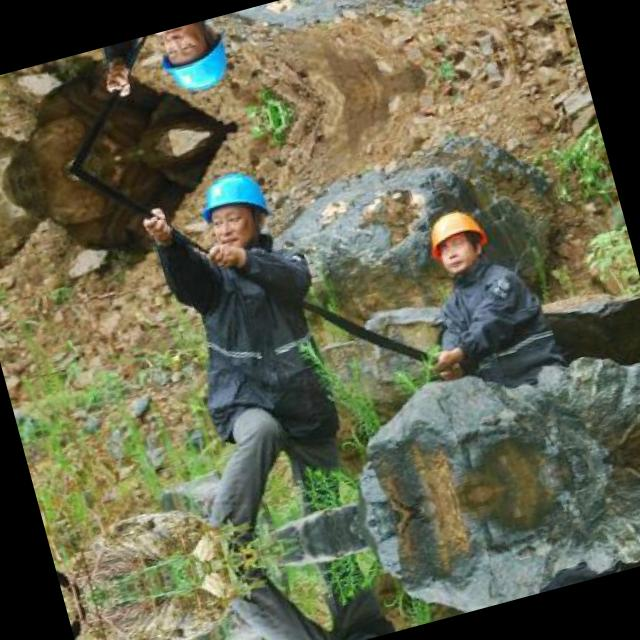helmet: (183, 156, 286, 263), (145, 14, 246, 107), (414, 194, 501, 280)
